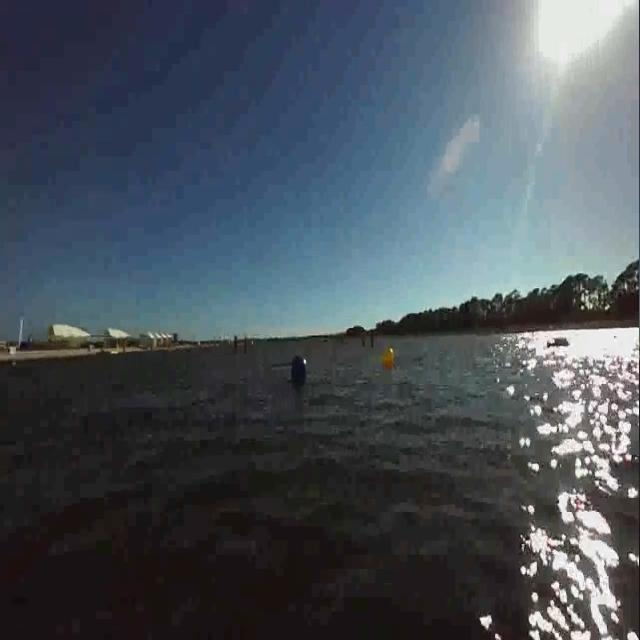blue-buoy: (291, 354, 306, 382)
yellow-buoy: (380, 346, 392, 368)
